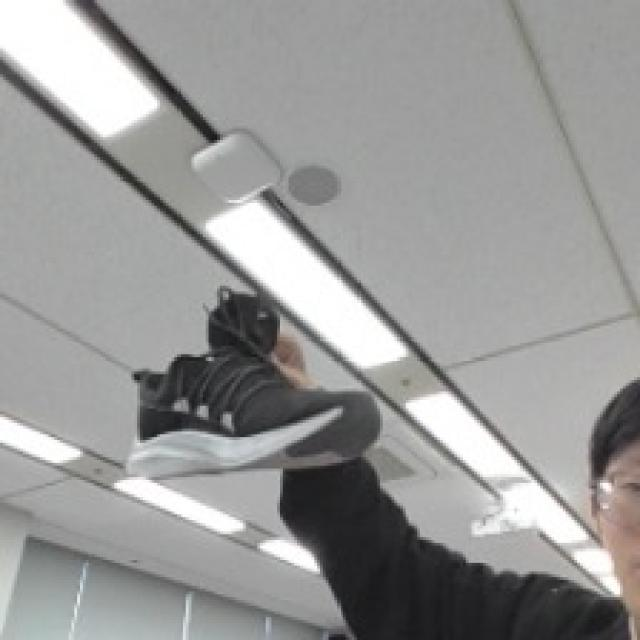shoe: (80, 271, 410, 526)
